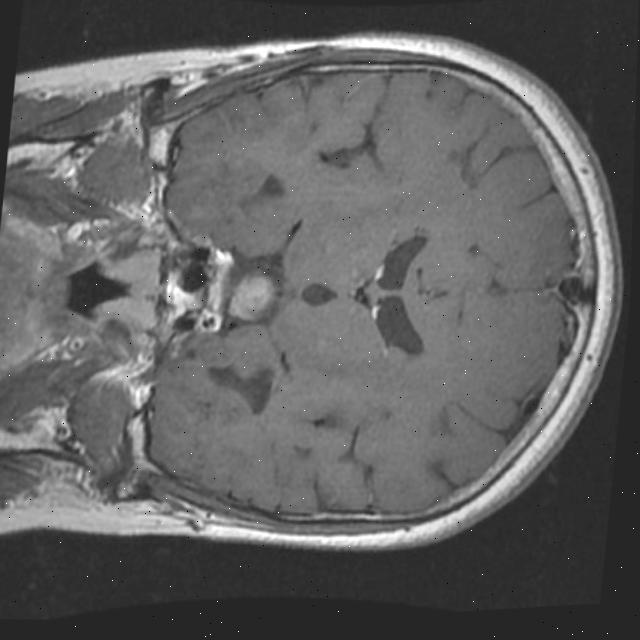Pituitary: (224, 267, 278, 325)
